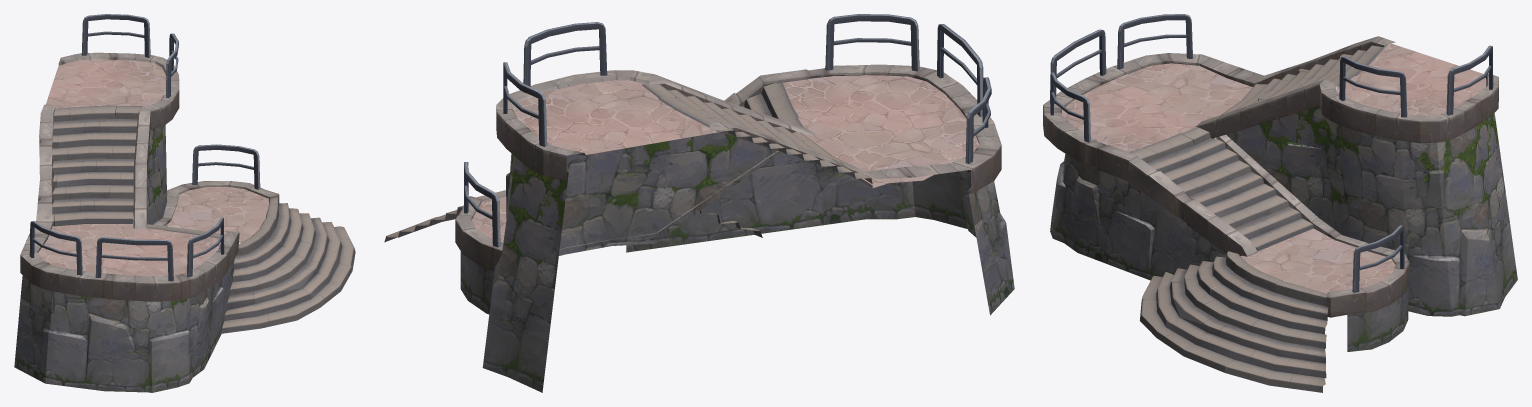
The picture shows the model from 3 angles, left to right: view 1: azimuth 30°, elevation 25°; view 2: azimuth 150°, elevation 25°; view 3: azimuth 270°, elevation 25°; orthographic projection. The views are drawn at different scales.
Parts seen in each view (by area): view 1: wq_wj016_01; view 2: wq_wj016_01; view 3: wq_wj016_01.
Boxes of the visible parts, x1,y1,x2,y2 form: wq_wj016_01: (14, 14, 355, 392); wq_wj016_01: (384, 14, 1014, 392); wq_wj016_01: (1043, 14, 1517, 392).
Bounding box in the file's own units: 1098 × 564 × 1004.
4 materials, 4 textured.
